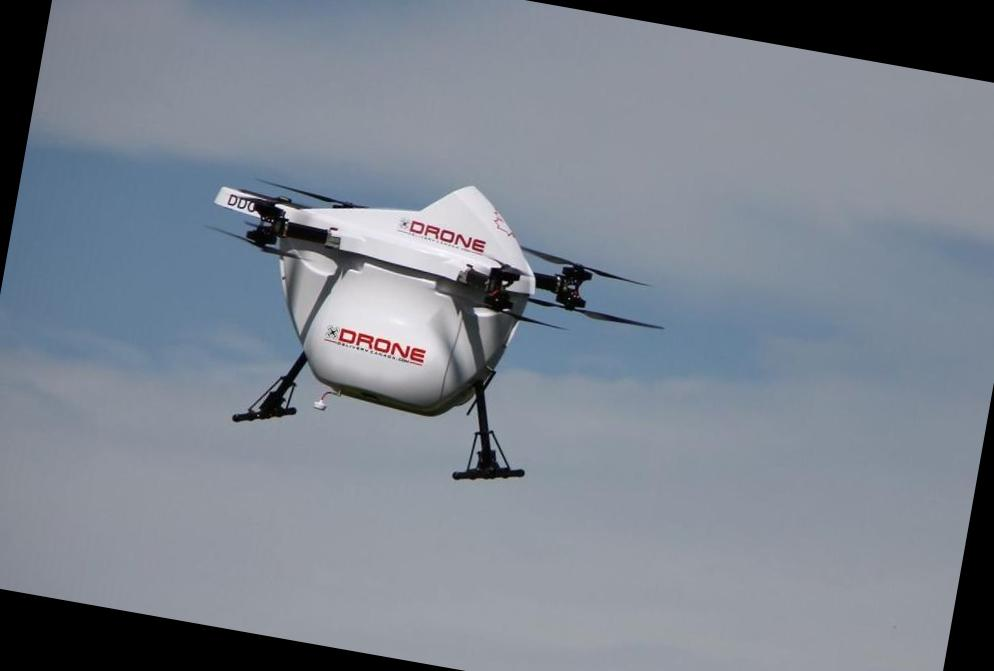drone: (167, 119, 728, 418)
